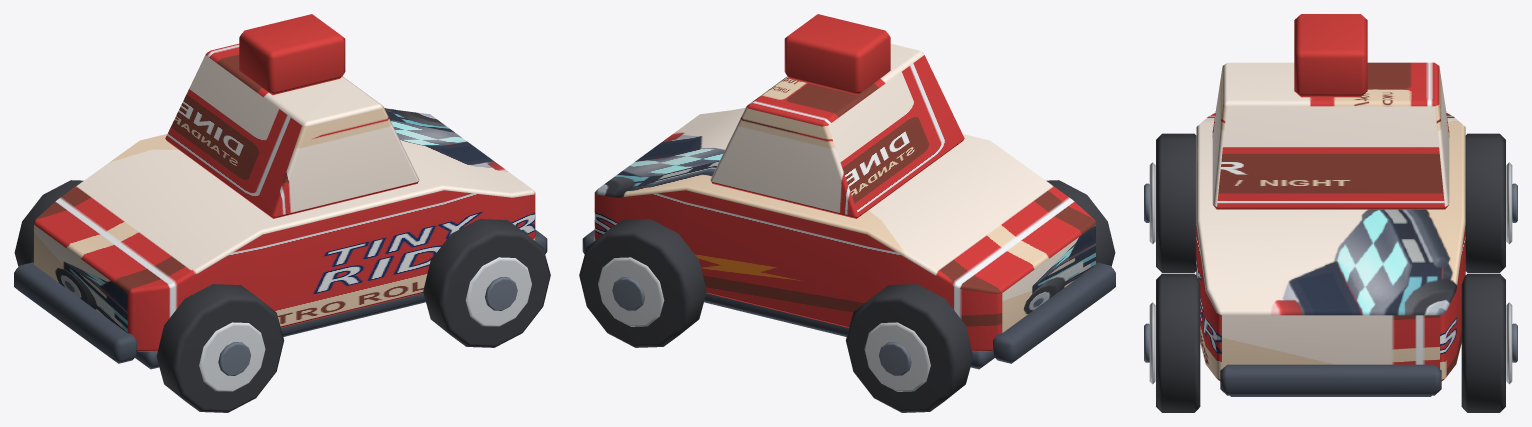
3 renders of one model, left to right at view 1: azimuth 30°, elevation 25°; view 2: azimuth 150°, elevation 25°; view 3: azimuth 270°, elevation 25°, orthographic. The views are drawn at different scales.
Parts seen in each view (by area): view 1: RR-01_connected_shell, RR-01_cabin, Tire.002, Tire, roof sign, front bumper, Rim, Rim.002, underbody, Tire.001, Hub, Hub.002; view 2: RR-01_connected_shell, RR-01_cabin, Tire.003, Tire.001, roof sign, front bumper, Rim.001, Rim.003, underbody, Tire, Hub.001, Hub.003; view 3: RR-01_connected_shell, RR-01_cabin, rear bumper, Tire.002, Tire.003, roof sign, Tire, Tire.001, Rim, Rim.001, Rim.002, Rim.003 (+1 smaller).
Part boxes in pixels (x1=…): RR-01_connected_shell: x1=34, y1=107, x2=535, y2=351; RR-01_cabin: x1=165, y1=43, x2=419, y2=218; Tire.002: x1=423, y1=219, x2=550, y2=347; Tire: x1=156, y1=284, x2=284, y2=412; roof sign: x1=239, y1=14, x2=345, y2=95; front bumper: x1=14, y1=262, x2=137, y2=363; Rim: x1=199, y1=322, x2=265, y2=391; Rim.002: x1=465, y1=257, x2=531, y2=326; underbody: x1=135, y1=293, x2=425, y2=369; Tire.001: x1=14, y1=180, x2=83, y2=266; Hub: x1=218, y1=342, x2=250, y2=375; Hub.002: x1=485, y1=277, x2=517, y2=310; RR-01_connected_shell: x1=594, y1=107, x2=1095, y2=351; RR-01_cabin: x1=710, y1=43, x2=964, y2=218; Tire.003: x1=579, y1=219, x2=706, y2=347; Tire.001: x1=845, y1=284, x2=973, y2=412; roof sign: x1=784, y1=14, x2=890, y2=95; front bumper: x1=992, y1=262, x2=1115, y2=363; Rim.001: x1=864, y1=322, x2=930, y2=391; Rim.003: x1=598, y1=257, x2=664, y2=326; underbody: x1=704, y1=293, x2=994, y2=369; Tire: x1=1046, y1=180, x2=1115, y2=266; Hub.001: x1=879, y1=342, x2=911, y2=375; Hub.003: x1=612, y1=277, x2=644, y2=310; RR-01_connected_shell: x1=1196, y1=113, x2=1465, y2=381; RR-01_cabin: x1=1212, y1=62, x2=1449, y2=209; rear bumper: x1=1220, y1=364, x2=1441, y2=395; Tire.002: x1=1156, y1=273, x2=1200, y2=412; Tire.003: x1=1461, y1=273, x2=1505, y2=412; roof sign: x1=1294, y1=14, x2=1367, y2=97; Tire: x1=1156, y1=133, x2=1196, y2=272; Tire.001: x1=1465, y1=133, x2=1505, y2=272; Rim: x1=1149, y1=162, x2=1155, y2=244; Rim.001: x1=1506, y1=162, x2=1512, y2=244; Rim.002: x1=1149, y1=302, x2=1155, y2=384; Rim.003: x1=1506, y1=302, x2=1512, y2=384.
Size of the model in its own units: 317 by 201 by 219.
